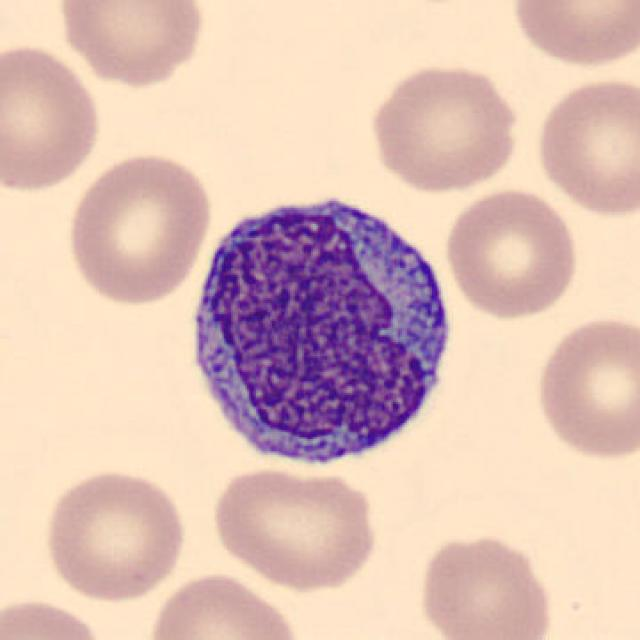Monocyte: (176, 173, 464, 481)
RBC: (62, 148, 215, 307), (206, 462, 382, 592), (364, 60, 522, 196), (39, 465, 190, 605), (441, 185, 581, 323), (530, 310, 638, 464), (0, 41, 105, 196), (414, 529, 558, 640), (532, 72, 638, 220), (53, 0, 210, 90), (144, 569, 309, 640), (505, 0, 638, 71), (0, 594, 110, 640)
